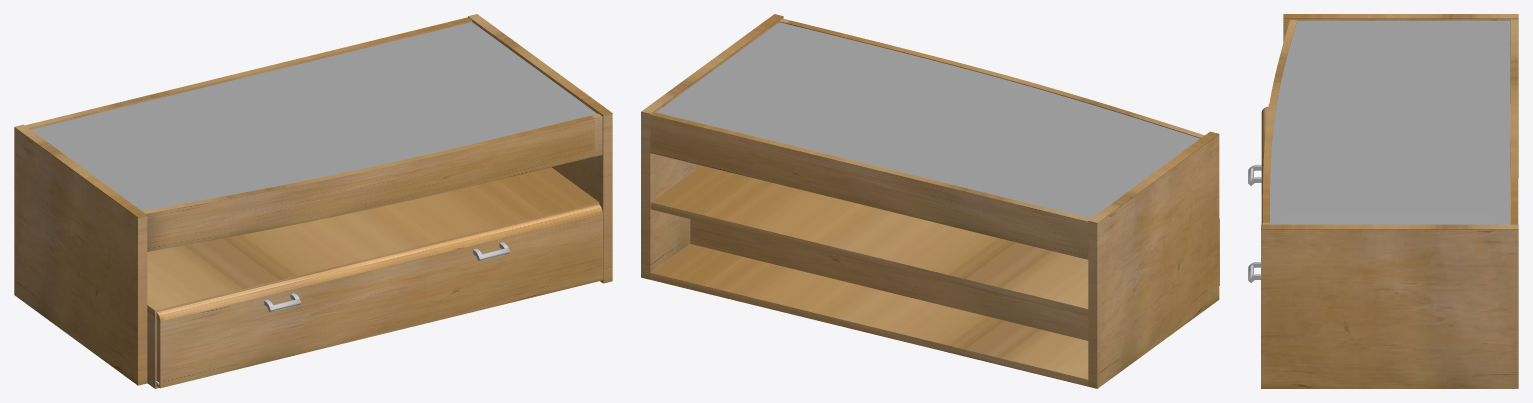
The model's file is tableBasse2.obj.
3 renders of one model, left to right at view 1: azimuth 30°, elevation 25°; view 2: azimuth 150°, elevation 25°; view 3: azimuth 270°, elevation 25°, orthographic. The views are drawn at different scales.
Visible parts, largest first — view 1: Boolean_1_9, Cube_8_11, Cube_1_1, Cube_4_4, Extruded_Object_4_8, Boolean_2_13, Cube_3_3, Cube_2_2, Cube_5_5; view 2: Boolean_1_9, Cube_4_4, Cube_1_1, Cube_7_7, Cube_2_2, Cube_6_6, Cube_3_3, Extruded_Object_4_8; view 3: Boolean_1_9, Cube_3_3, Cube_1_1, Cube_2_2, Extruded_Object_4_8, Boolean_2_13.
Boxes of the visible parts, x1,y1,x2,y2 form: Boolean_1_9: (31,22,597,210); Cube_8_11: (156,214,602,388); Cube_1_1: (14,124,147,385); Cube_4_4: (147,167,599,317); Extruded_Object_4_8: (142,113,602,251); Boolean_2_13: (156,204,602,321); Cube_3_3: (468,14,612,283); Cube_2_2: (25,17,471,129); Cube_5_5: (147,312,159,388); Boolean_1_9: (656,22,1199,218); Cube_4_4: (650,165,1088,315); Cube_1_1: (1088,131,1219,388); Cube_7_7: (650,244,1088,386); Cube_2_2: (650,112,1090,259); Cube_6_6: (690,219,1088,340); Cube_3_3: (641,14,783,279); Extruded_Object_4_8: (779,18,1204,138); Boolean_1_9: (1270,20,1510,224); Cube_3_3: (1261,224,1518,388); Cube_1_1: (1283,14,1518,177); Cube_2_2: (1511,19,1518,224); Extruded_Object_4_8: (1262,20,1297,224); Boolean_2_13: (1261,106,1268,224).
Bounding box in the file's own units: 113 × 39.14 × 59.83.
